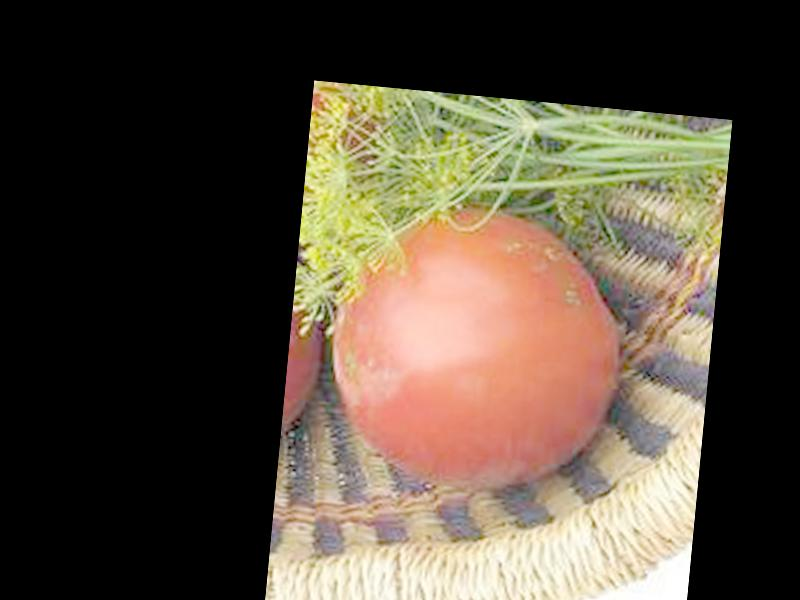Tomato: (319, 194, 628, 500)
